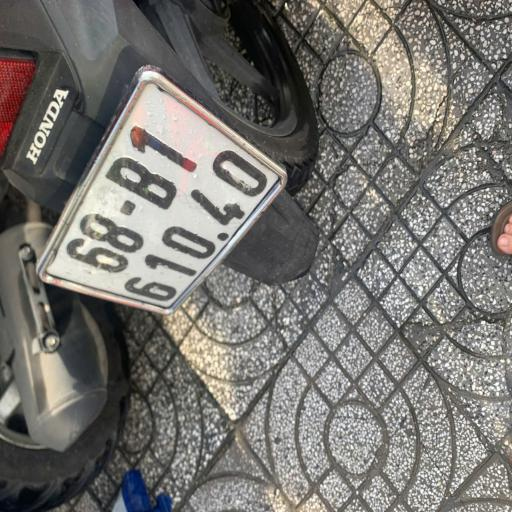0: (208, 134, 284, 203), (156, 213, 223, 264)
1: (130, 114, 202, 180), (140, 242, 200, 293)
4: (187, 182, 249, 237)
6: (62, 234, 130, 291), (118, 270, 180, 310)
8: (81, 200, 147, 258)
B: (104, 151, 179, 215)
